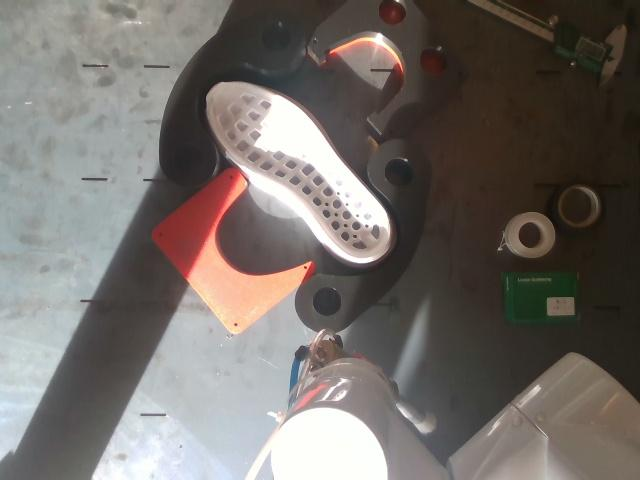shoes: (208, 82, 390, 258)
